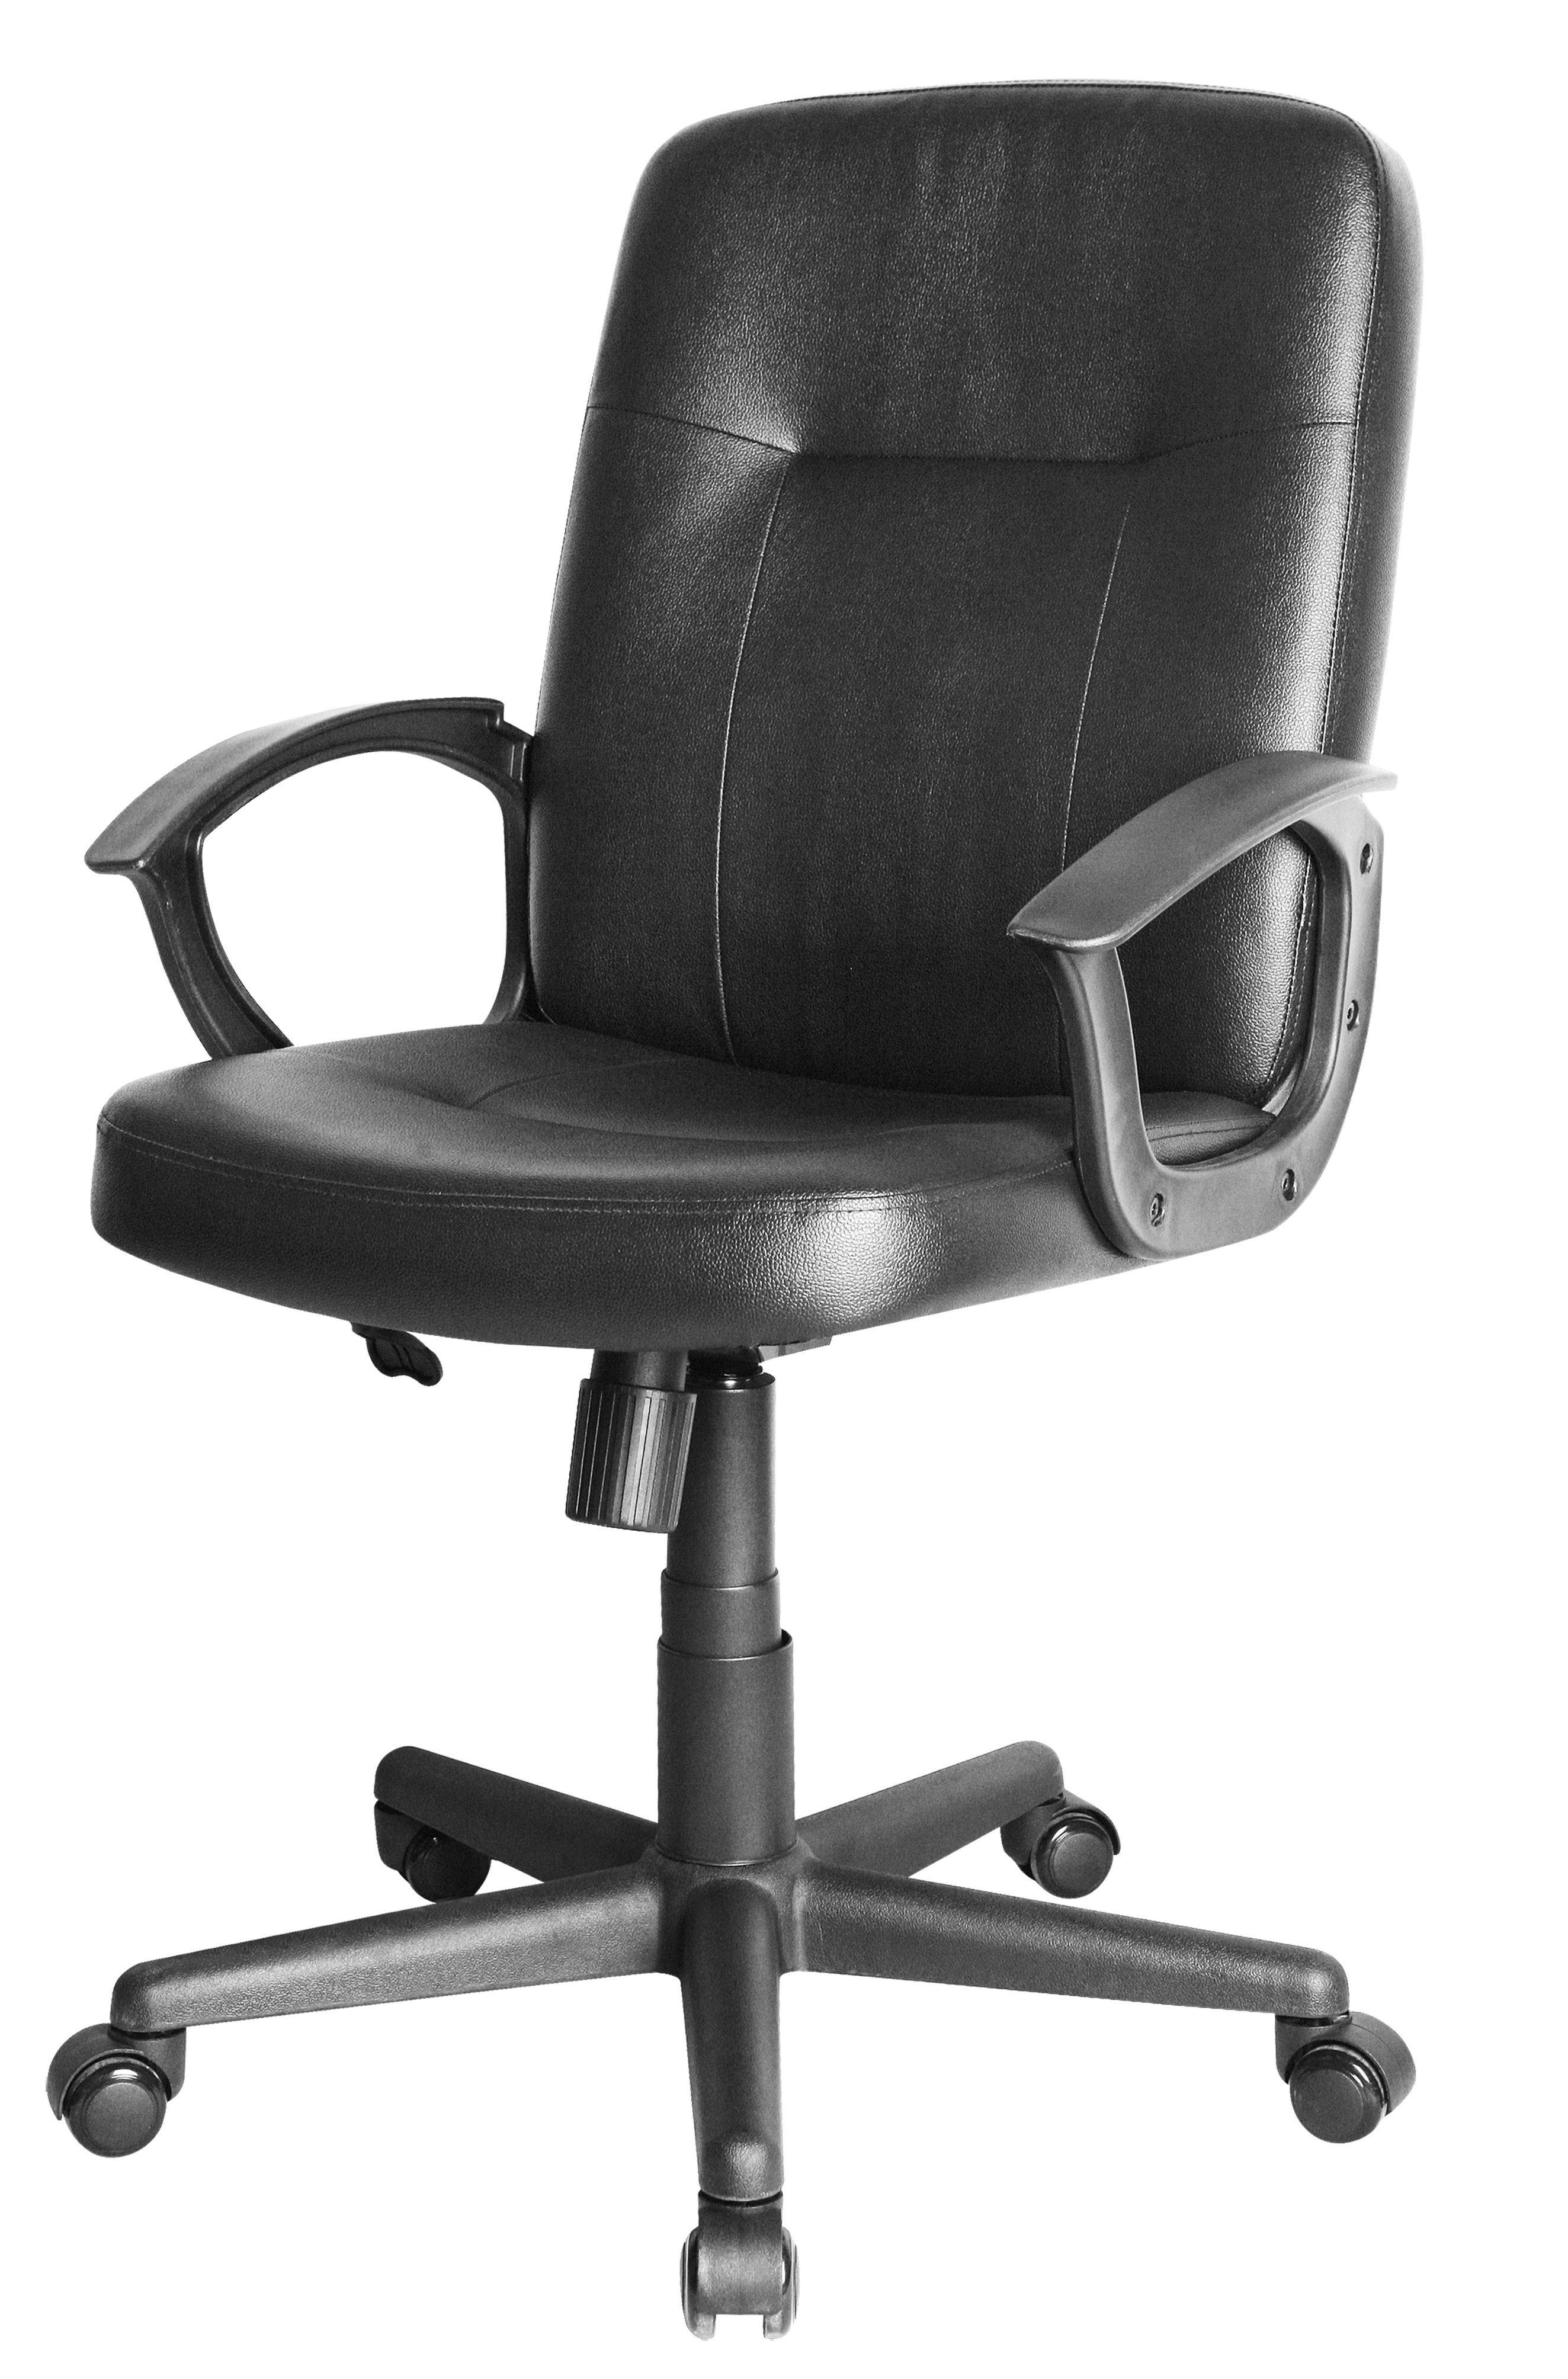kursi: (35, 9, 1458, 2379)
